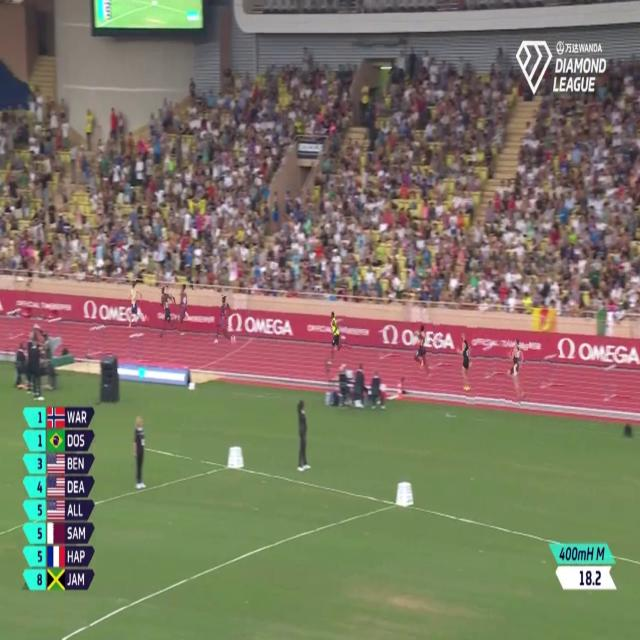athlete: (502, 332, 527, 407), (412, 320, 439, 389), (209, 296, 237, 354), (122, 275, 150, 333), (456, 324, 476, 405), (325, 302, 348, 368), (160, 287, 178, 344), (176, 281, 192, 341)
hurdle: (598, 354, 626, 408), (376, 323, 400, 365), (539, 349, 559, 393), (125, 331, 147, 369), (482, 342, 504, 380), (88, 321, 109, 359), (6, 306, 25, 344), (50, 315, 64, 353)
